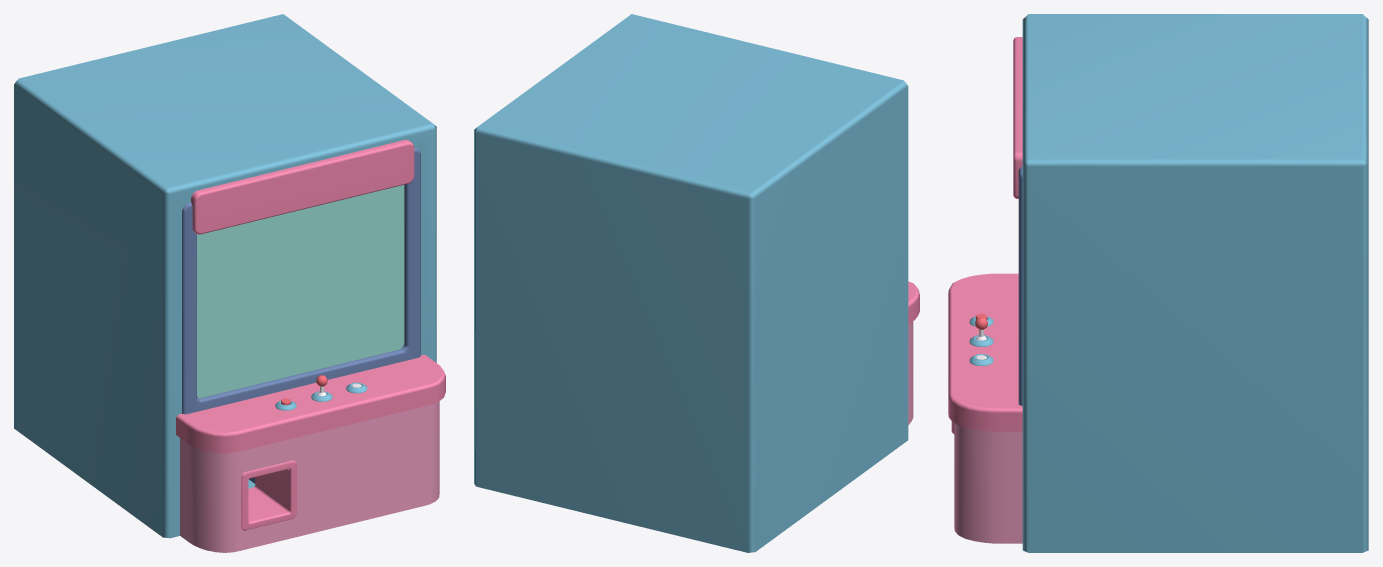
File: clawmachineLPwithglass.fbx
3 views of the same model, side by side, from view 1: azimuth 30°, elevation 25°; view 2: azimuth 150°, elevation 25°; view 3: azimuth 270°, elevation 25° (orthographic). The views are drawn at different scales.
Visible parts, largest first — view 1: box_low, table1_low, glass2_low, plate_low, frame_low, hole_low, controller_low; view 2: box_low, table1_low; view 3: box_low, table1_low, plate_low, frame_low, controller_low.
Boxes of the visible parts, bbox=[...] form: box_low: bbox=[14, 14, 436, 538]; table1_low: bbox=[176, 354, 445, 552]; glass2_low: bbox=[197, 185, 404, 398]; plate_low: bbox=[191, 139, 414, 234]; frame_low: bbox=[182, 148, 420, 414]; hole_low: bbox=[241, 460, 296, 530]; controller_low: bbox=[275, 375, 367, 410]; box_low: bbox=[474, 14, 908, 552]; table1_low: bbox=[908, 281, 919, 424]; box_low: bbox=[1022, 14, 1368, 552]; table1_low: bbox=[948, 273, 1022, 543]; plate_low: bbox=[1013, 37, 1022, 198]; frame_low: bbox=[1018, 166, 1022, 405]; controller_low: bbox=[969, 313, 993, 366].
Size of the model in its own units: 205 by 250 by 243.
